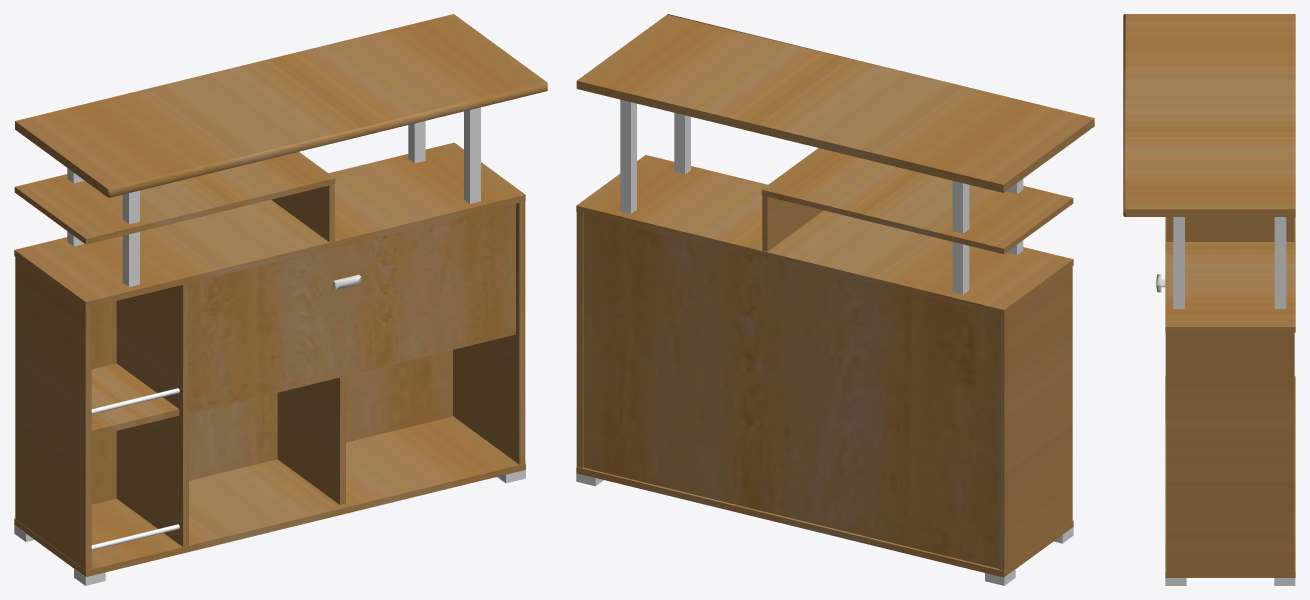
File: sweethome3d-contributions-bar-table-323.glb
3 views of the same model, side by side, from view 1: azimuth 30°, elevation 25°; view 2: azimuth 150°, elevation 25°; view 3: azimuth 270°, elevation 25° (orthographic). The views are drawn at different scales.
Visible parts, largest first — view 1: Cube_9_13, Cube_13_17, Cube_2_1_6, Cube_2_5, Cube_3_7, Cube_10_14, Cube_3_1_8, Cube_11_15, Cube_3_2_9, Cube_4_10, Cube_14_18, Cube_5_11 (+5 smaller); view 2: Cube_10_14, Cube_13_17, Cube_2_1_6, Cube_3_7, Cube_11_15, Cube_2_5, Cube_3_2_9, Cube_12_16, Cube_15_3_22, Cube_15_2_21, Cube_15_4_23, Cube_15_19 (+1 smaller); view 3: Cube_13_17, Cube_3_2_9, Cube_2_1_6, Cube_12_16, Cube_2_5, Cube_15_3_22, Cube_15_2_21, Cube_14_18.
Boxes of the visible parts, x1=… form: Cube_9_13: x1=189, y1=203, x2=515, y2=411; Cube_13_17: x1=15, y1=14, x2=545, y2=196; Cube_2_1_6: x1=14, y1=142, x2=525, y2=308; Cube_2_5: x1=14, y1=416, x2=525, y2=576; Cube_3_7: x1=15, y1=257, x2=91, y2=570; Cube_10_14: x1=91, y1=301, x2=452, y2=504; Cube_3_1_8: x1=116, y1=283, x2=188, y2=546; Cube_11_15: x1=14, y1=151, x2=335, y2=244; Cube_3_2_9: x1=453, y1=201, x2=525, y2=464; Cube_4_10: x1=277, y1=376, x2=345, y2=504; Cube_14_18: x1=107, y1=81, x2=547, y2=197; Cube_5_11: x1=91, y1=363, x2=179, y2=436; Cube_10_14: x1=583, y1=213, x2=998, y2=568; Cube_13_17: x1=576, y1=15, x2=1093, y2=192; Cube_2_1_6: x1=576, y1=155, x2=1073, y2=315; Cube_3_7: x1=998, y1=266, x2=1072, y2=570; Cube_11_15: x1=761, y1=148, x2=1073, y2=254; Cube_2_5: x1=576, y1=467, x2=1073, y2=577; Cube_3_2_9: x1=576, y1=212, x2=583, y2=467; Cube_12_16: x1=762, y1=195, x2=823, y2=251; Cube_15_3_22: x1=620, y1=99, x2=636, y2=213; Cube_15_2_21: x1=674, y1=113, x2=690, y2=174; Cube_15_4_23: x1=952, y1=242, x2=969, y2=294; Cube_15_19: x1=952, y1=181, x2=969, y2=233; Cube_13_17: x1=1127, y1=14, x2=1295, y2=216; Cube_3_2_9: x1=1166, y1=332, x2=1294, y2=572; Cube_2_1_6: x1=1165, y1=217, x2=1295, y2=332; Cube_12_16: x1=1166, y1=217, x2=1294, y2=241; Cube_2_5: x1=1165, y1=376, x2=1295, y2=577; Cube_15_3_22: x1=1274, y1=217, x2=1286, y2=308; Cube_15_2_21: x1=1173, y1=217, x2=1184, y2=308; Cube_14_18: x1=1123, y1=14, x2=1126, y2=216.
Size of the model in its own units: 121 by 108 by 45.
3 materials, 1 textured.
